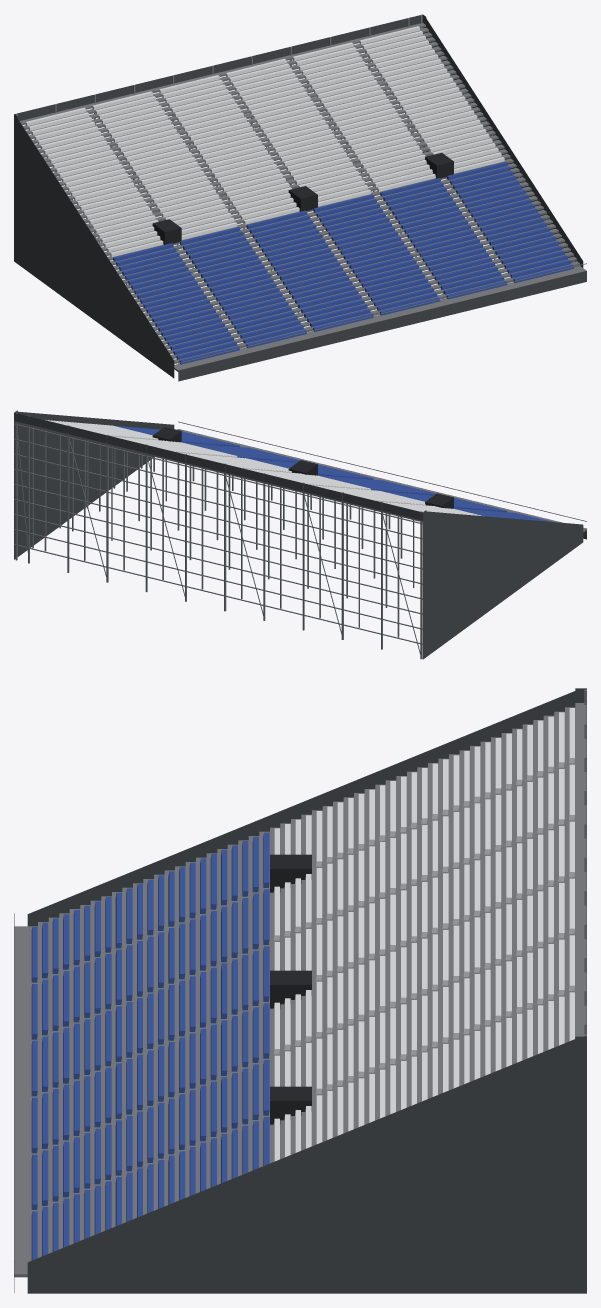
The model's file is rbr_open_mitte_ne.glb.
3 renders of one model, top to bottom at view 1: azimuth 30°, elevation 25°; view 2: azimuth 150°, elevation 25°; view 3: azimuth 270°, elevation 25°, orthographic. The views are drawn at different scales.
Parts seen in each view (by area): view 1: red-bull-ring-mitte-ne; view 2: red-bull-ring-mitte-ne; view 3: red-bull-ring-mitte-ne.
Boxes of the visible parts, x1,y1,x2,y2 form: red-bull-ring-mitte-ne: (14, 14, 586, 381); red-bull-ring-mitte-ne: (14, 410, 586, 659); red-bull-ring-mitte-ne: (14, 688, 586, 1293).
Bounding box in the file's own units: 62.58 × 21.52 × 43.51.
